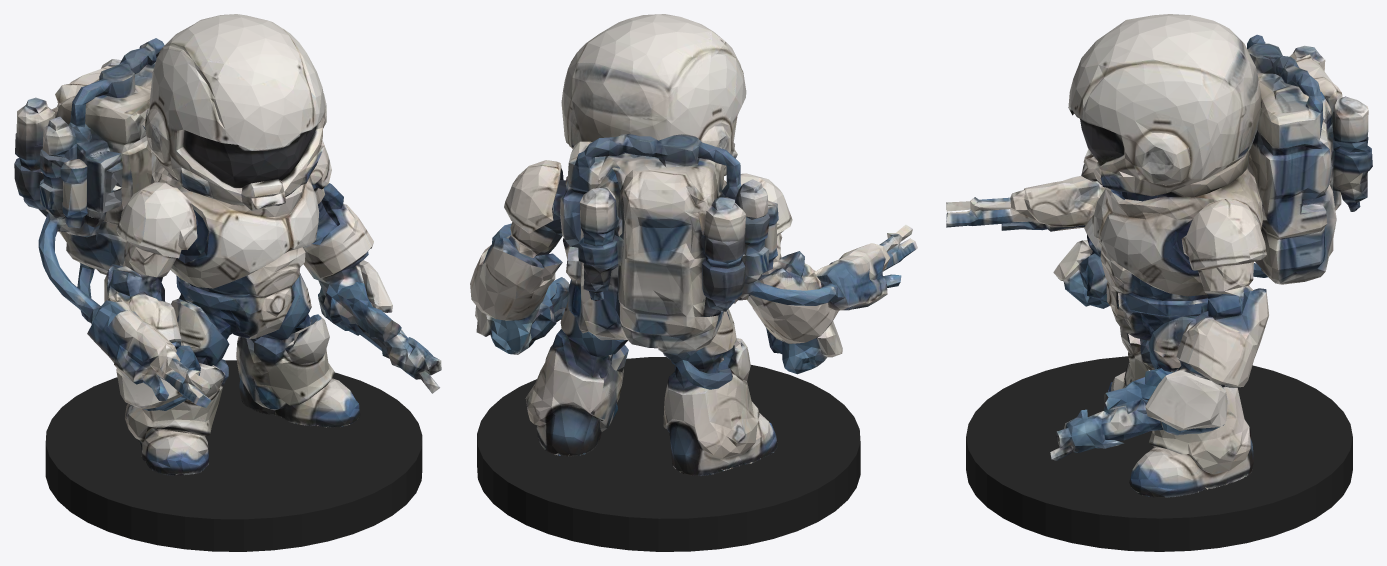
File: medic.glb
3 views of the same model, side by side, from view 1: azimuth 30°, elevation 25°; view 2: azimuth 150°, elevation 25°; view 3: azimuth 270°, elevation 25° (orthographic). The views are drawn at different scales.
Visible parts, largest first — view 1: figure, base; view 2: figure, base; view 3: figure, base.
Part boxes in pixels (x1=…): figure: x1=14, y1=14, x2=441, y2=475; base: x1=45, y1=360, x2=422, y2=551; figure: x1=470, y1=14, x2=917, y2=476; base: x1=477, y1=357, x2=860, y2=551; figure: x1=946, y1=14, x2=1372, y2=497; base: x1=966, y1=356, x2=1352, y2=551.
Bounding box in the file's own units: 1.28 × 1.62 × 1.39.
Materials: 2 (1 with a texture image).
